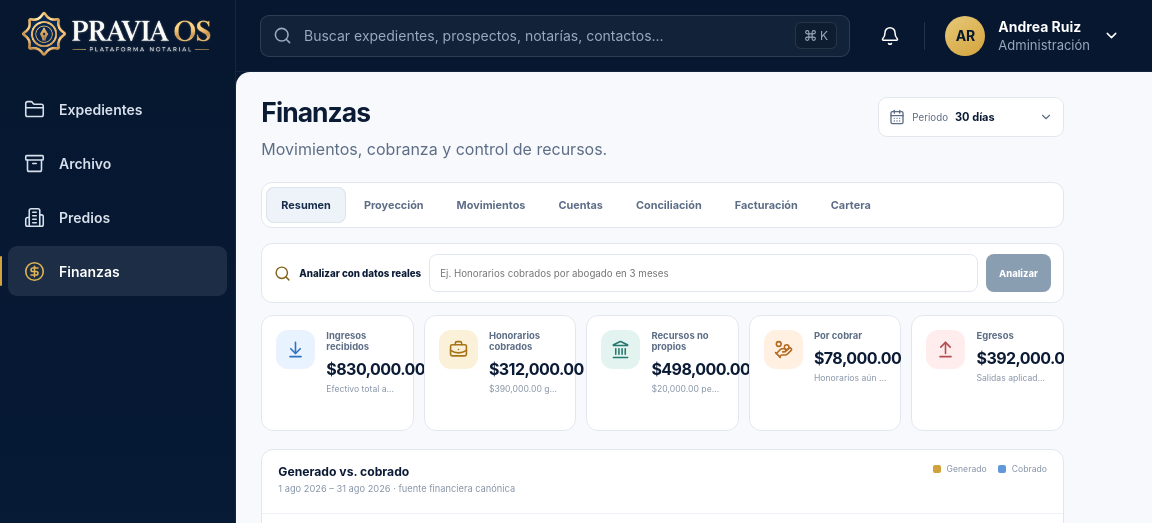
Test case: Finanzas › mantiene el periodo común al navegar entre vistas financieras
Check: the text "Ingresos recibidos" is shown, box [326, 330, 369, 352]
Select "3 meses" in the dropdown named "Periodo financiero": point(994, 117) [955, 110, 1032, 124]
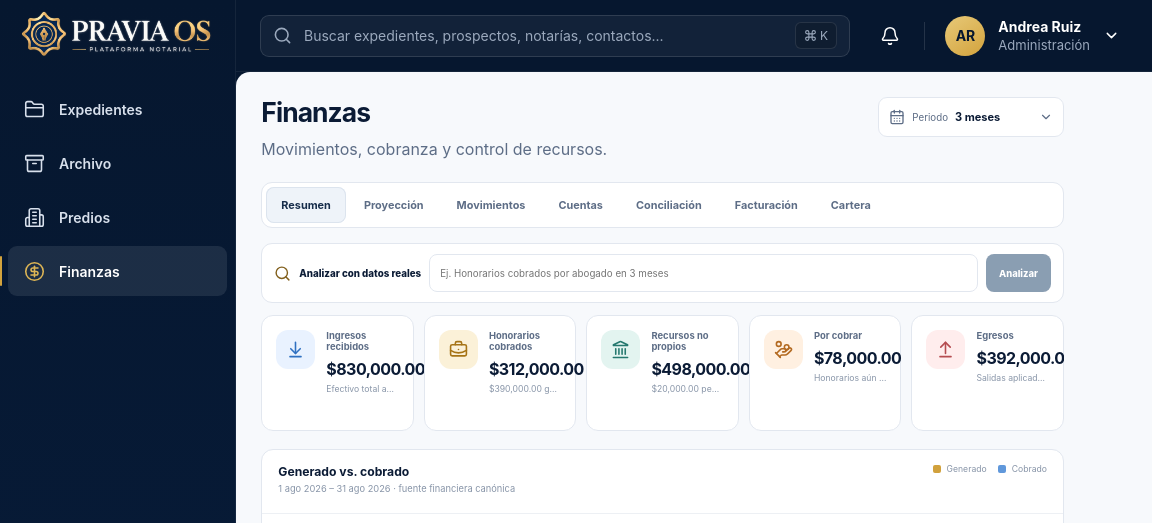
Click the button "Movimientos": point(491, 205) [442, 187, 540, 223]
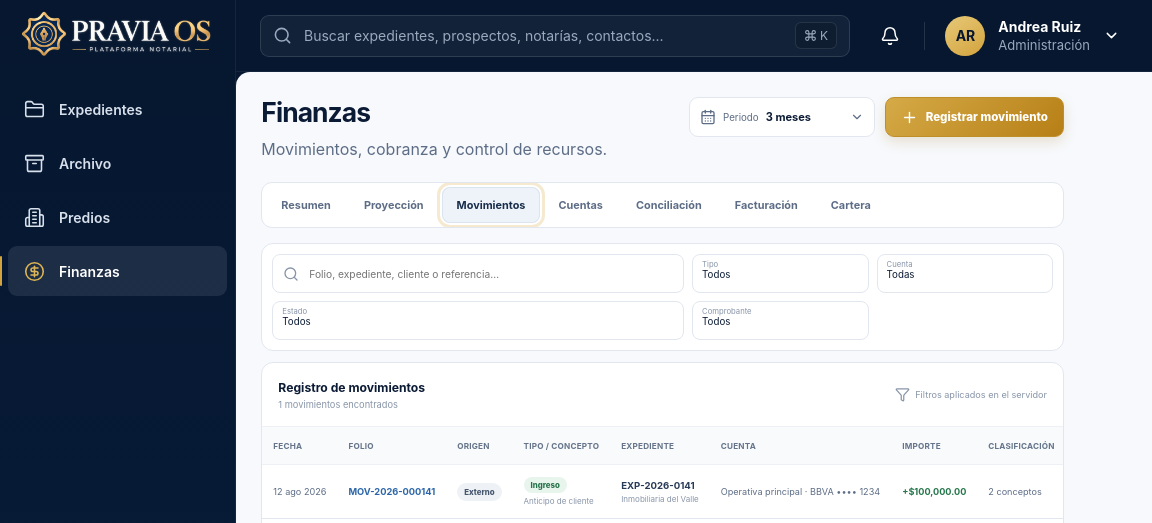
Check: the table is shown, box [262, 427, 1063, 518]
